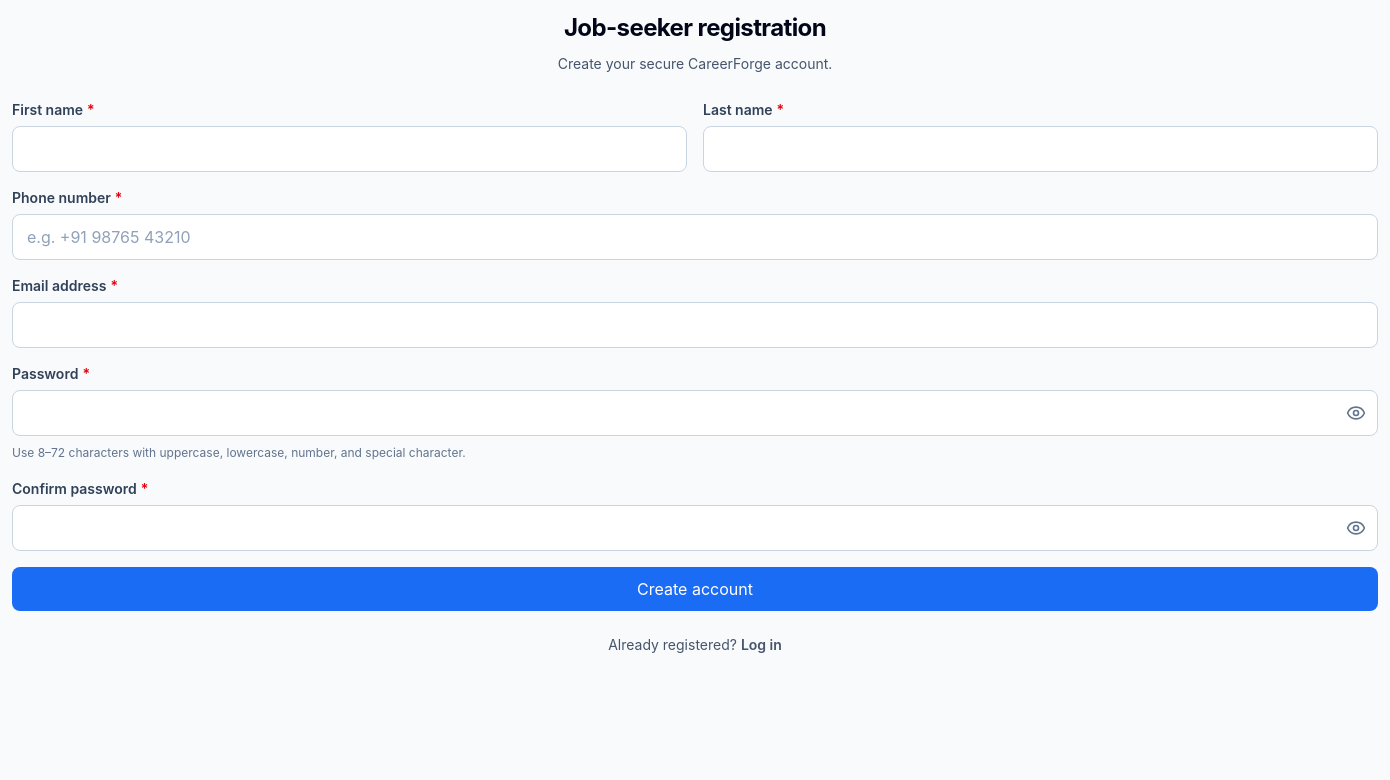
Test: authentication pages › keeps registration on the client when registration validation fails
Step 1. Type "invalid-email" into the field labelled "Email address*" → (695, 325), box [12,302,1378,348]
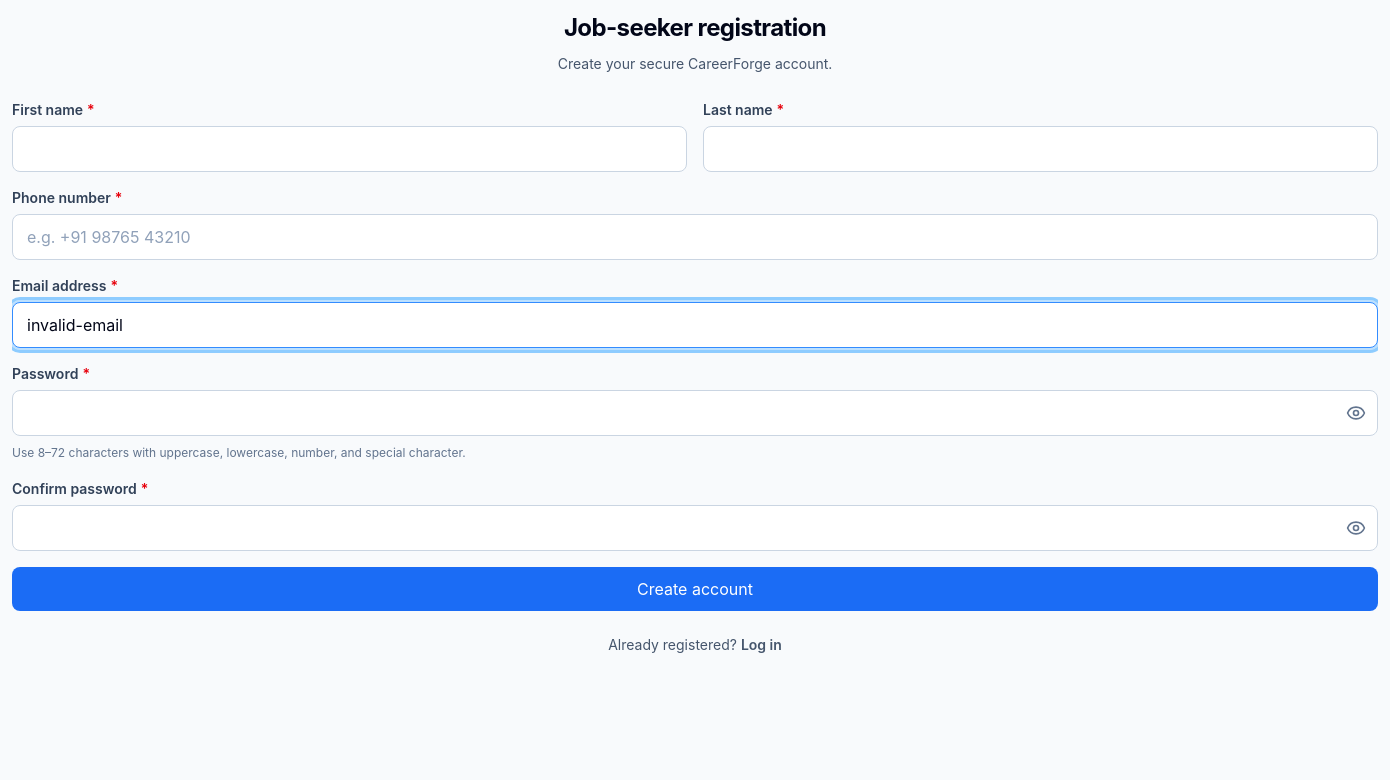
Step 2. Type "Career@123" into the password field labelled "Password*" → (695, 413), box [12,390,1378,436]
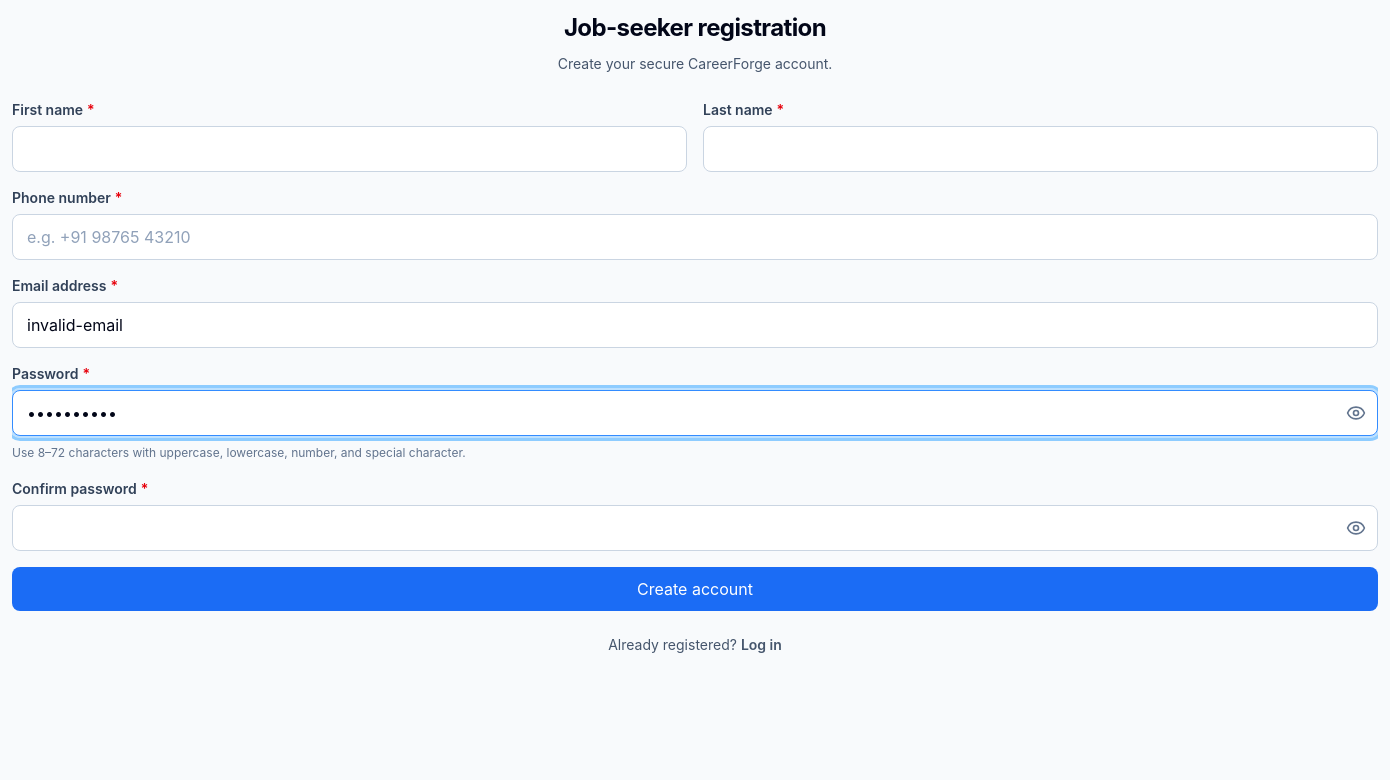
Step 3. Type "Different@123" into the password field labelled "Confirm password*" → (695, 528), box [12,505,1378,551]
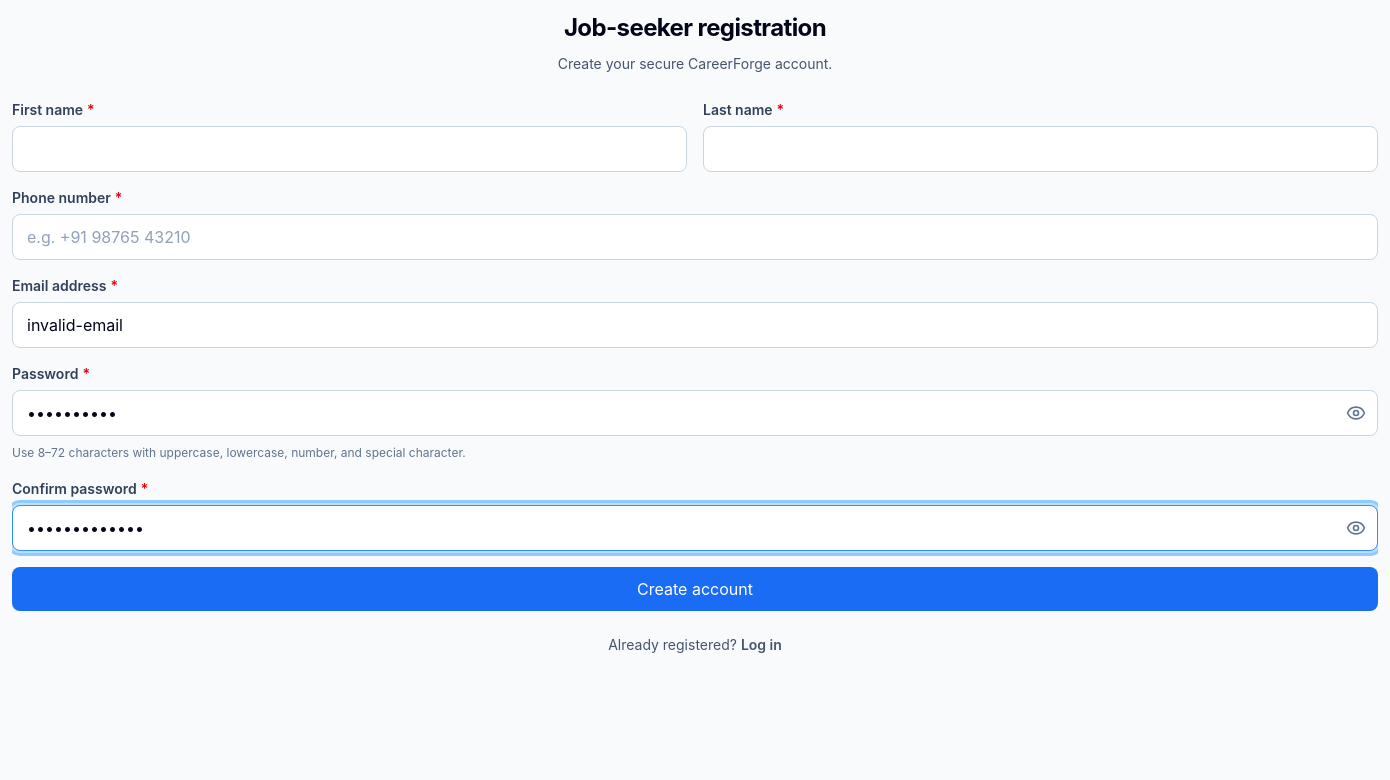
Step 4. Click the button "Create account" → (695, 589), box [12,567,1378,611]
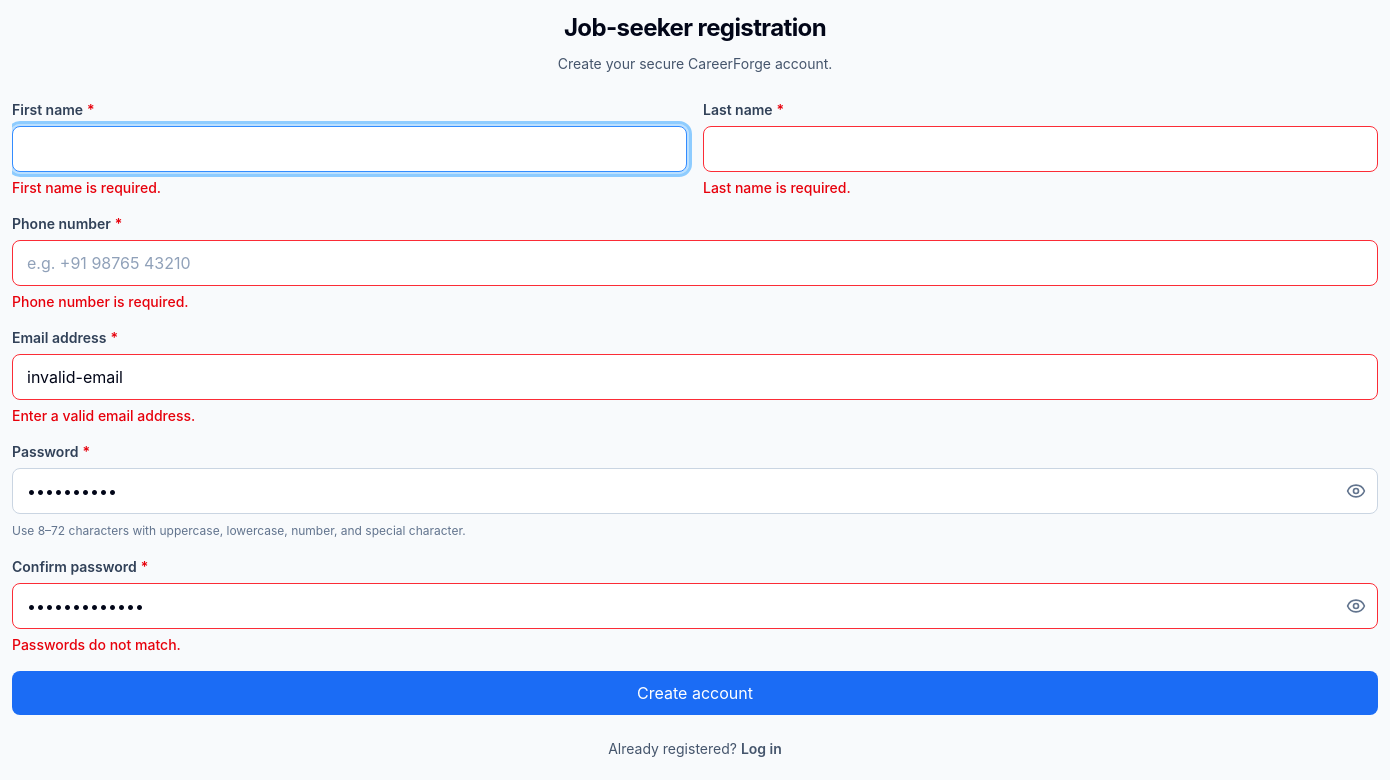
Expected: the text "Enter a valid email address." is shown, [12,407,195,424]
Expected: the text "Passwords do not match." is shown, [12,636,181,653]
